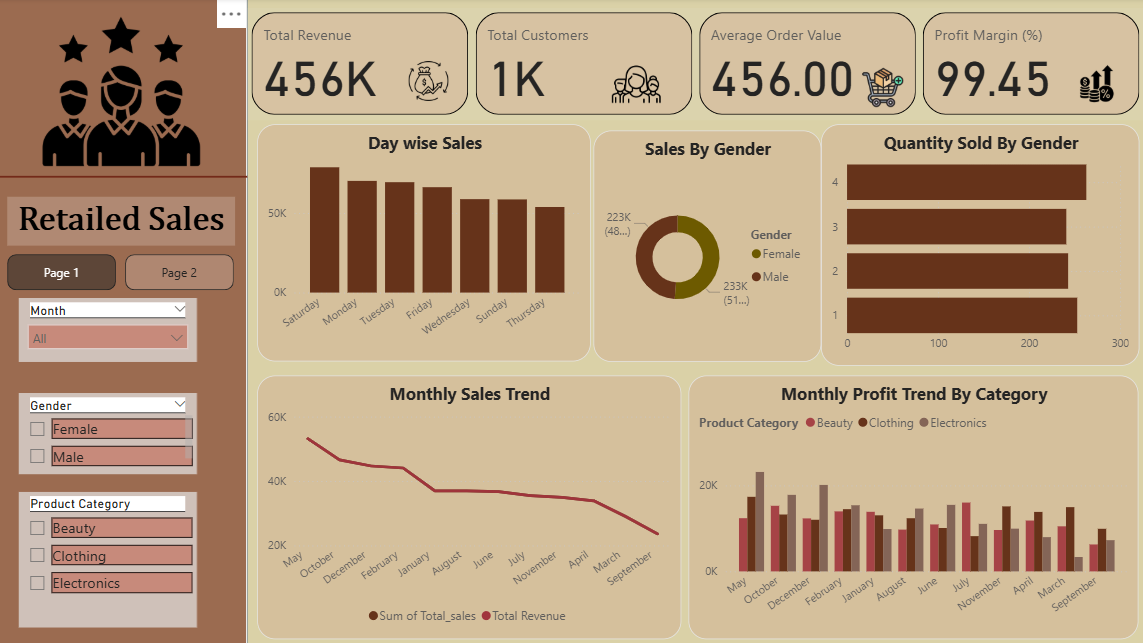

This screenshot's page, from the dashboard's own definition file:
{"tool":"powerbi","page":{"name":"Page 1","canvas":[1280,720],"ordinal":0},"visuals":[{"type":"shape","box":[0,0,279.7,719.3],"z":0},{"type":"image","box":[25.7,11.4,228.6,185.7],"z":1000},{"type":"shape","box":[0,176.7,279.7,44.5],"z":2000},{"type":"slicer","fields":{"Values":["retail_sales_dataset.Product Category"]},"box":[25.7,550,198.6,151.4],"z":3000},{"type":"slicer","fields":{"Values":["retail_sales_dataset.Month"]},"box":[25.7,334.3,198.6,71.4],"z":4000},{"type":"slicer","fields":{"Values":["retail_sales_dataset.Gender"]},"box":[25.7,440,198.6,90],"z":5000},{"type":"cardVisual","fields":{"Data":["retail_sales_dataset.Total Revenue","retail_sales_dataset.Total Customers","retail_sales_dataset.Average Order Value","retail_sales_dataset.Profit Margin (%)"]},"box":[279.9,11,1000.3,124.9],"z":6000},{"type":"image","box":[662.9,64.3,100,64.3],"z":7000},{"type":"image","box":[958.6,64.3,57.1,71.4],"z":8000},{"type":"image","box":[1191,68.2,69.6,54.3],"z":9000},{"type":"image","box":[447.1,64.3,70,57.1],"z":10000},{"type":"lineChart","title":"Monthly Sales Trend","fields":{"Category":["retail_sales_dataset.Month"],"Y":["Sum(retail_sales_dataset.Total_sales)","retail_sales_dataset.Total Revenue"]},"box":[290.8,420.2,471.7,293.6],"z":11000},{"type":"clusteredColumnChart","title":"Monthly Profit Trend By Category","fields":{"Category":["retail_sales_dataset.Month"],"Y":["Sum(retail_sales_dataset.Profit)"],"Series":["retail_sales_dataset.Product Category"]},"box":[770.8,420.2,500.9,293.6],"z":12000},{"type":"donutChart","title":"Sales By Gender","fields":{"Category":["retail_sales_dataset.Gender"],"Y":["Sum(retail_sales_dataset.Total_sales)"]},"box":[665,147.5,253.2,257.4],"z":13000},{"type":"columnChart","title":"Day wise Sales","fields":{"Category":["retail_sales_dataset.Day Name"],"Y":["Sum(retail_sales_dataset.Total_sales)"]},"box":[290.8,140.5,371.5,264.3],"z":14000},{"type":"barChart","title":" Quantity Sold By Gender ","fields":{"Y":["CountNonNull(retail_sales_dataset.Gender)"],"Category":["retail_sales_dataset.Quantity"]},"box":[918.3,140.5,354.8,268.5],"z":15000},{"type":"textbox","box":[12.5,221.2,253.2,54.3],"z":16000},{"type":"pageNavigator","box":[12.5,285.2,253.2,40.3],"z":17000}]}

Visuals, with their boxes in screenshot pixels (x1, y1, x2, y2), scaled from the page's 1280x720 canvas onto the 1143x643 screenshot:
shape: x1=0, y1=0, x2=250, y2=642
image: x1=23, y1=10, x2=227, y2=176
shape: x1=0, y1=158, x2=250, y2=198
slicer - retail_sales_dataset.Product Category: x1=23, y1=491, x2=200, y2=626
slicer - retail_sales_dataset.Month: x1=23, y1=299, x2=200, y2=362
slicer - retail_sales_dataset.Gender: x1=23, y1=393, x2=200, y2=473
cardVisual - retail_sales_dataset.Total Revenue x retail_sales_dataset.Total Customers: x1=250, y1=10, x2=1142, y2=121
image: x1=592, y1=57, x2=681, y2=115
image: x1=856, y1=57, x2=907, y2=121
image: x1=1064, y1=61, x2=1126, y2=109
image: x1=399, y1=57, x2=462, y2=108
"Monthly Sales Trend" lineChart: x1=260, y1=375, x2=681, y2=637
"Monthly Profit Trend By Category" clusteredColumnChart: x1=688, y1=375, x2=1136, y2=637
"Sales By Gender" donutChart: x1=594, y1=132, x2=820, y2=362
"Day wise Sales" columnChart: x1=260, y1=125, x2=591, y2=362
" Quantity Sold By Gender " barChart: x1=820, y1=125, x2=1137, y2=365
textbox: x1=11, y1=198, x2=237, y2=246
pageNavigator: x1=11, y1=255, x2=237, y2=291
